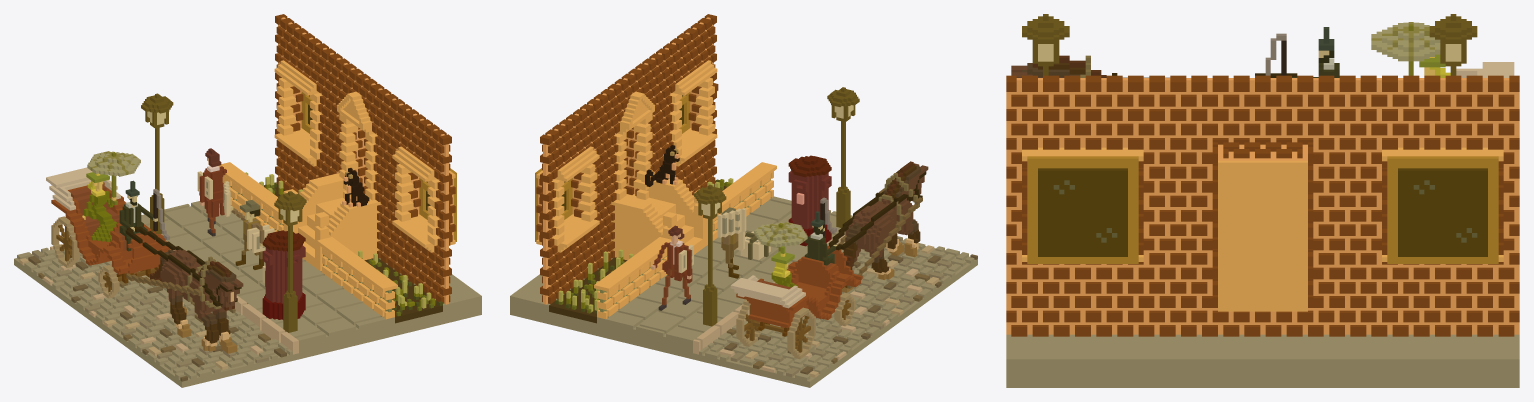
File: street-transformed.glb
3 renders of one model, left to right at view 1: azimuth 30°, elevation 25°; view 2: azimuth 150°, elevation 25°; view 3: azimuth 270°, elevation 25°, orthographic. The views are drawn at different scales.
Visible parts, largest first — view 1: Object_2; view 2: Object_2; view 3: Object_2.
Part boxes in pixels (box(x1,y1,x2,y2)): Object_2: box(14, 14, 481, 387); Object_2: box(510, 14, 977, 387); Object_2: box(1006, 14, 1519, 387).
Bounding box in the file's own units: 3.86 × 2.28 × 3.75.
Materials: 1 (1 with a texture image).
